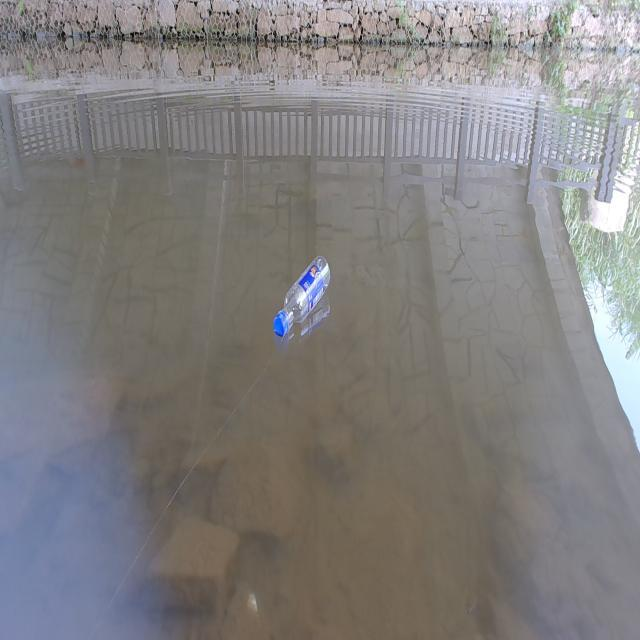garbage: (273, 254, 331, 337)
